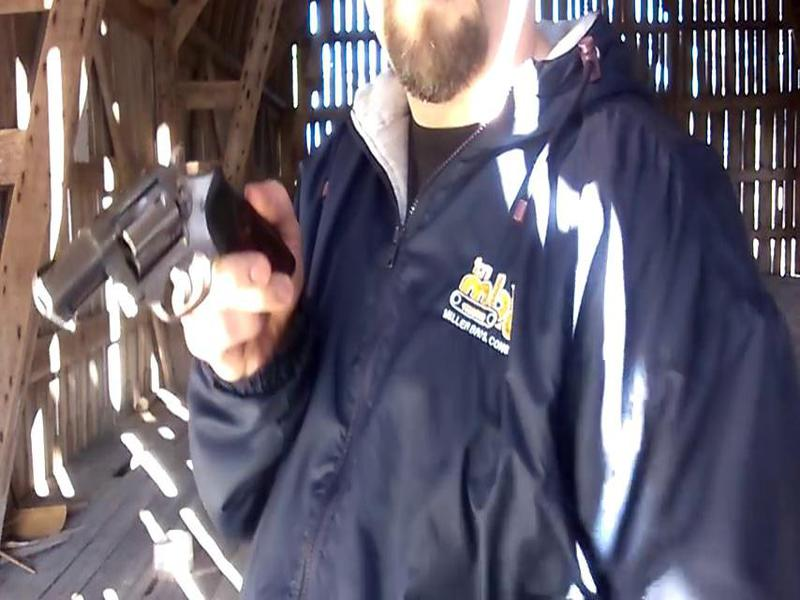Revolver: (24, 144, 298, 338)
